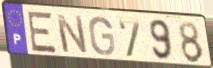7: (118, 16, 142, 59)
8: (177, 20, 205, 64)
9: (148, 18, 174, 62)
E: (27, 10, 59, 55)
G: (88, 15, 117, 57)
N: (54, 13, 90, 56)
